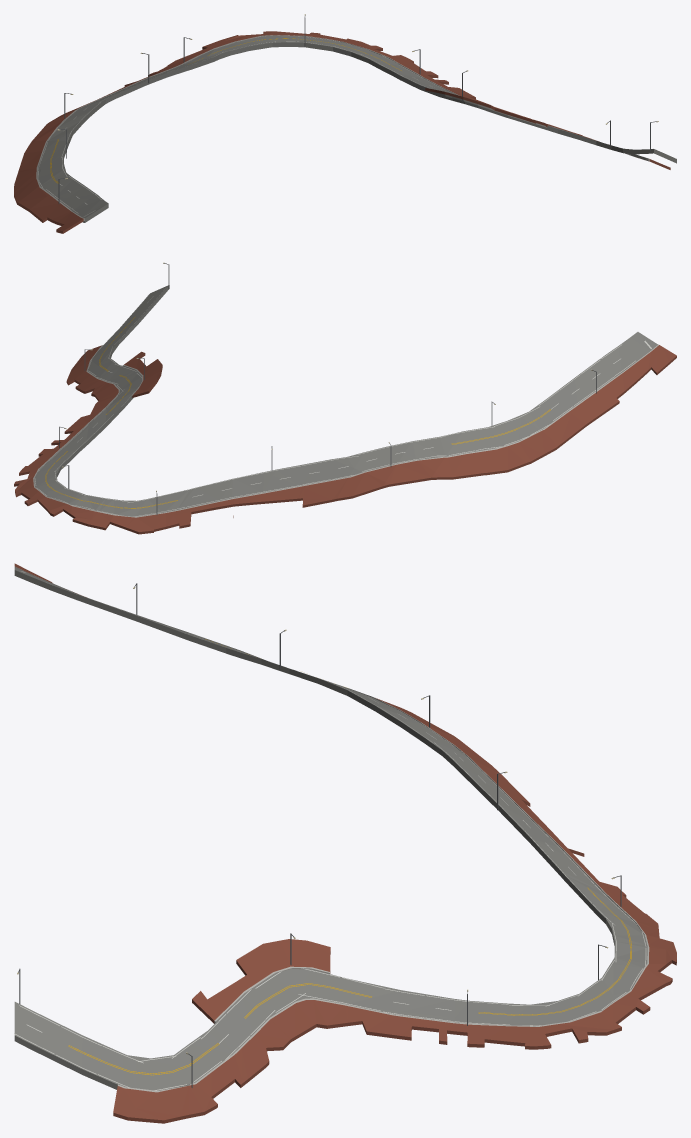
3 renders of one model, top to bottom at view 1: azimuth 30°, elevation 25°; view 2: azimuth 150°, elevation 25°; view 3: azimuth 270°, elevation 25°, orthographic. The views are drawn at different scales.
Bounding box in the file's own units: 177 × 38.92 × 125.
